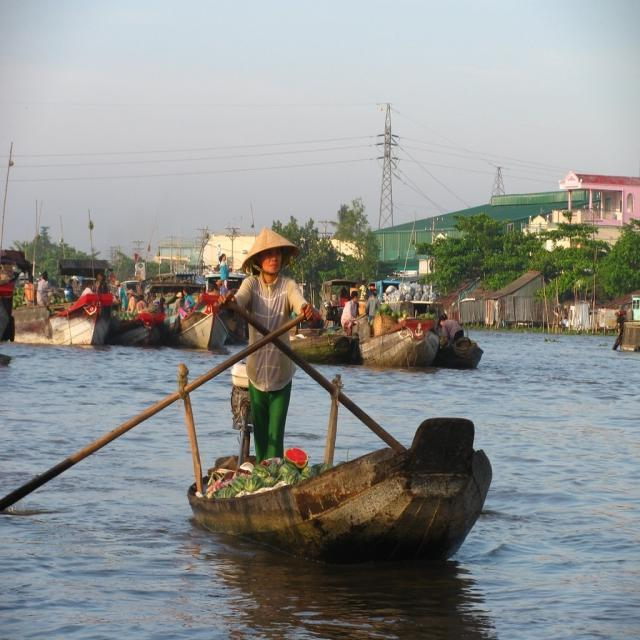Hyacinth: (484, 322, 586, 339)
boat: (178, 413, 514, 552), (358, 302, 448, 381), (51, 272, 113, 351), (165, 288, 237, 352), (293, 311, 351, 367)
